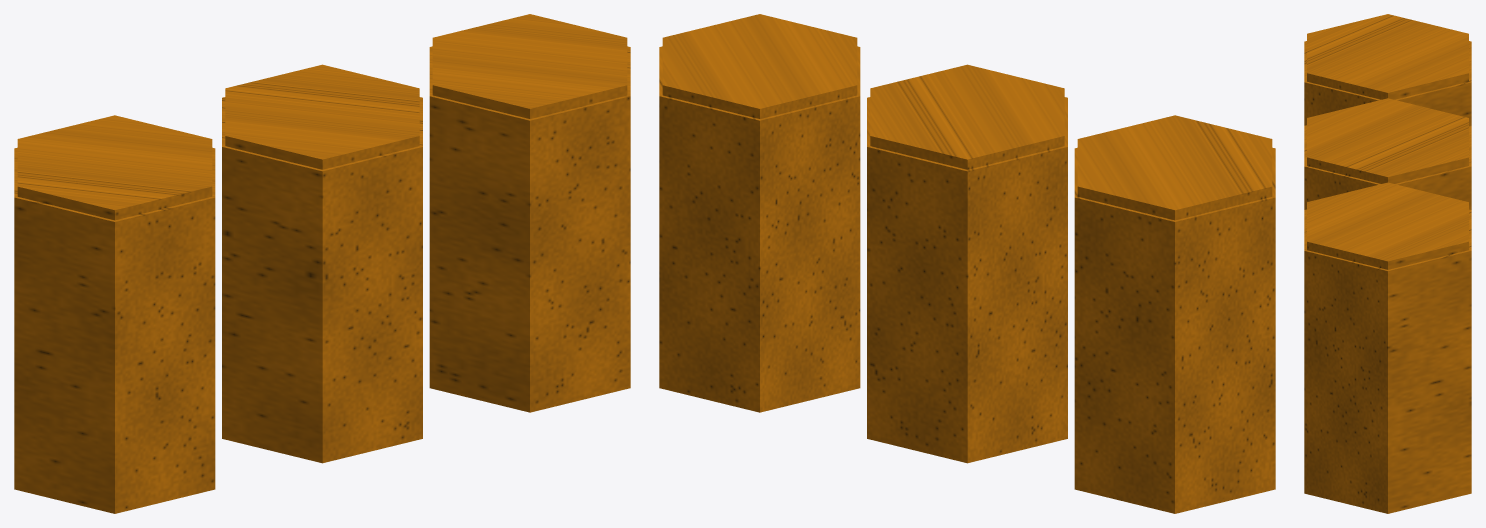
File: PROP-5F26DBB829FB_lod2.glb
3 views of the same model, side by side, from view 1: azimuth 30°, elevation 25°; view 2: azimuth 150°, elevation 25°; view 3: azimuth 270°, elevation 25° (orthographic). The views are drawn at different scales.
Visible parts, largest first — view 1: barrel_body.002, barrel_lid.002; view 2: barrel_body.002, barrel_lid.002; view 3: barrel_body.002, barrel_lid.002.
Part boxes in pixels (x1=…): barrel_body.002: x1=14, y1=46, x2=630, y2=513; barrel_lid.002: x1=17, y1=14, x2=627, y2=220; barrel_body.002: x1=659, y1=46, x2=1275, y2=513; barrel_lid.002: x1=662, y1=14, x2=1272, y2=220; barrel_body.002: x1=1304, y1=41, x2=1471, y2=513; barrel_lid.002: x1=1307, y1=14, x2=1468, y2=269.
Bounding box in the file's own units: 1.9 × 0.89 × 0.5369.
Materials: 1 (1 with a texture image).
